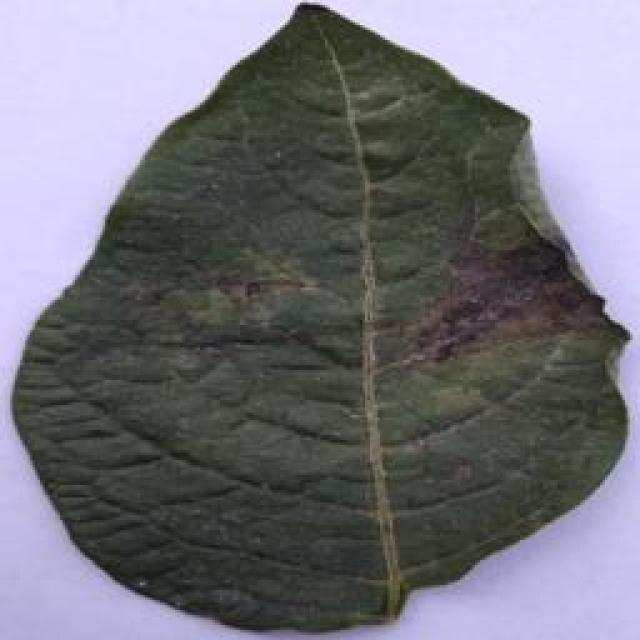Potato_Late_Blight: (5, 5, 636, 631)
